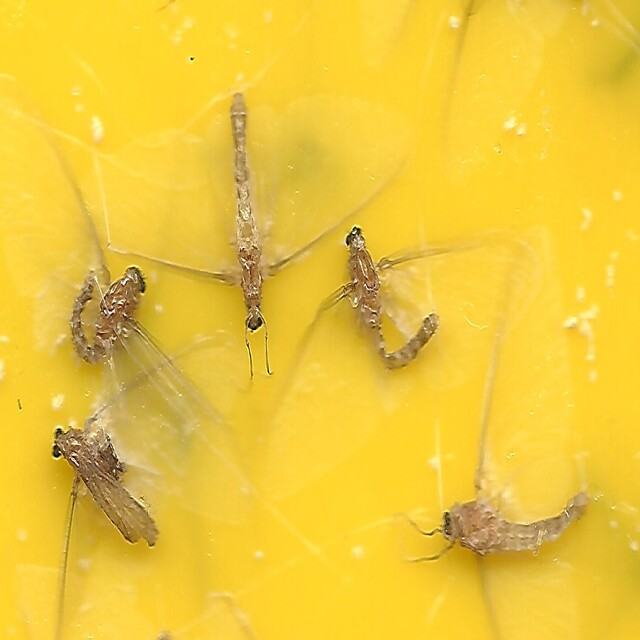Ephemeroptera: (345, 225, 442, 369), (228, 87, 269, 334), (441, 492, 588, 553), (69, 257, 146, 367), (52, 421, 132, 492)
